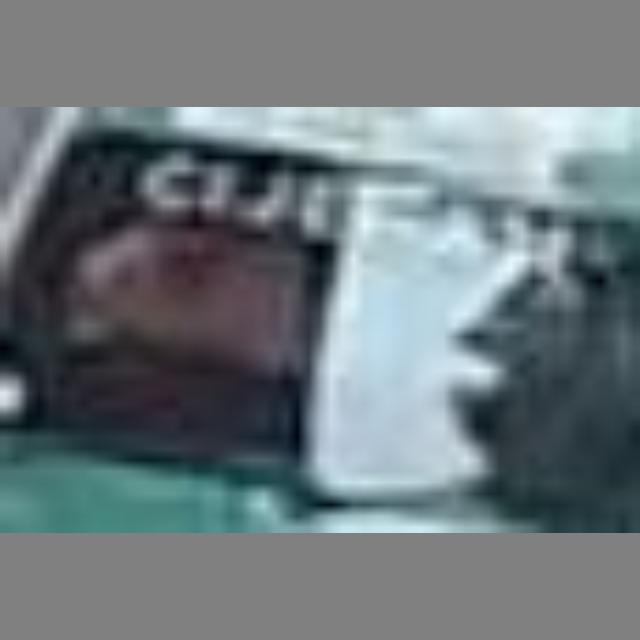tidak-pakai: (45, 163, 303, 399)
